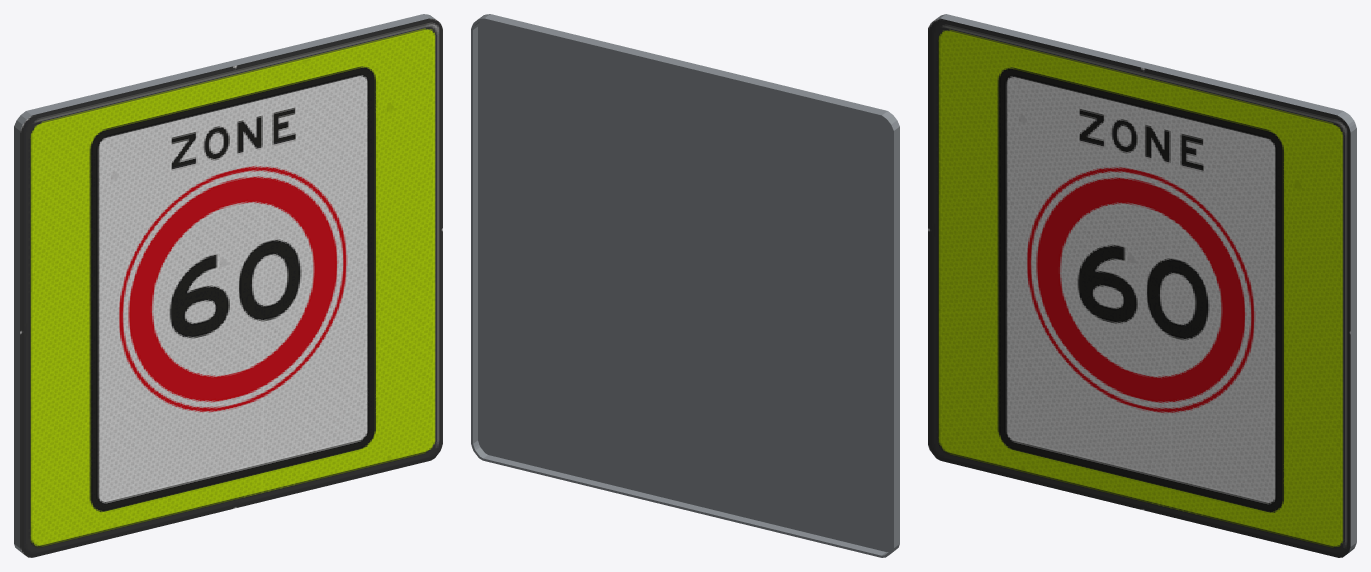
The picture shows the model from 3 angles, left to right: view 1: azimuth 30°, elevation 25°; view 2: azimuth 150°, elevation 25°; view 3: azimuth 330°, elevation 25°; orthographic projection.
Parts seen in each view (by area): view 1: cat_b8e4402473e5baf7; view 2: cat_b8e4402473e5baf7; view 3: cat_b8e4402473e5baf7.
Part boxes in pixels (<box>): cat_b8e4402473e5baf7: <box>14,14,442,557</box>; cat_b8e4402473e5baf7: <box>471,14,899,557</box>; cat_b8e4402473e5baf7: <box>928,14,1356,557</box>.
Size of the model in its own units: 0.6 by 0.015 by 0.6.
Materials: 2 (1 with a texture image).
